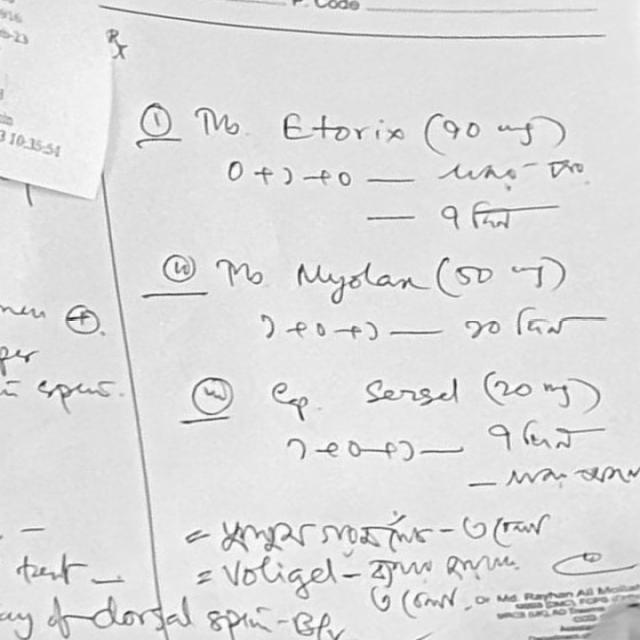Etorix: (271, 108, 407, 153)
Myolax: (276, 249, 425, 307)
Sergel: (359, 366, 472, 421)
